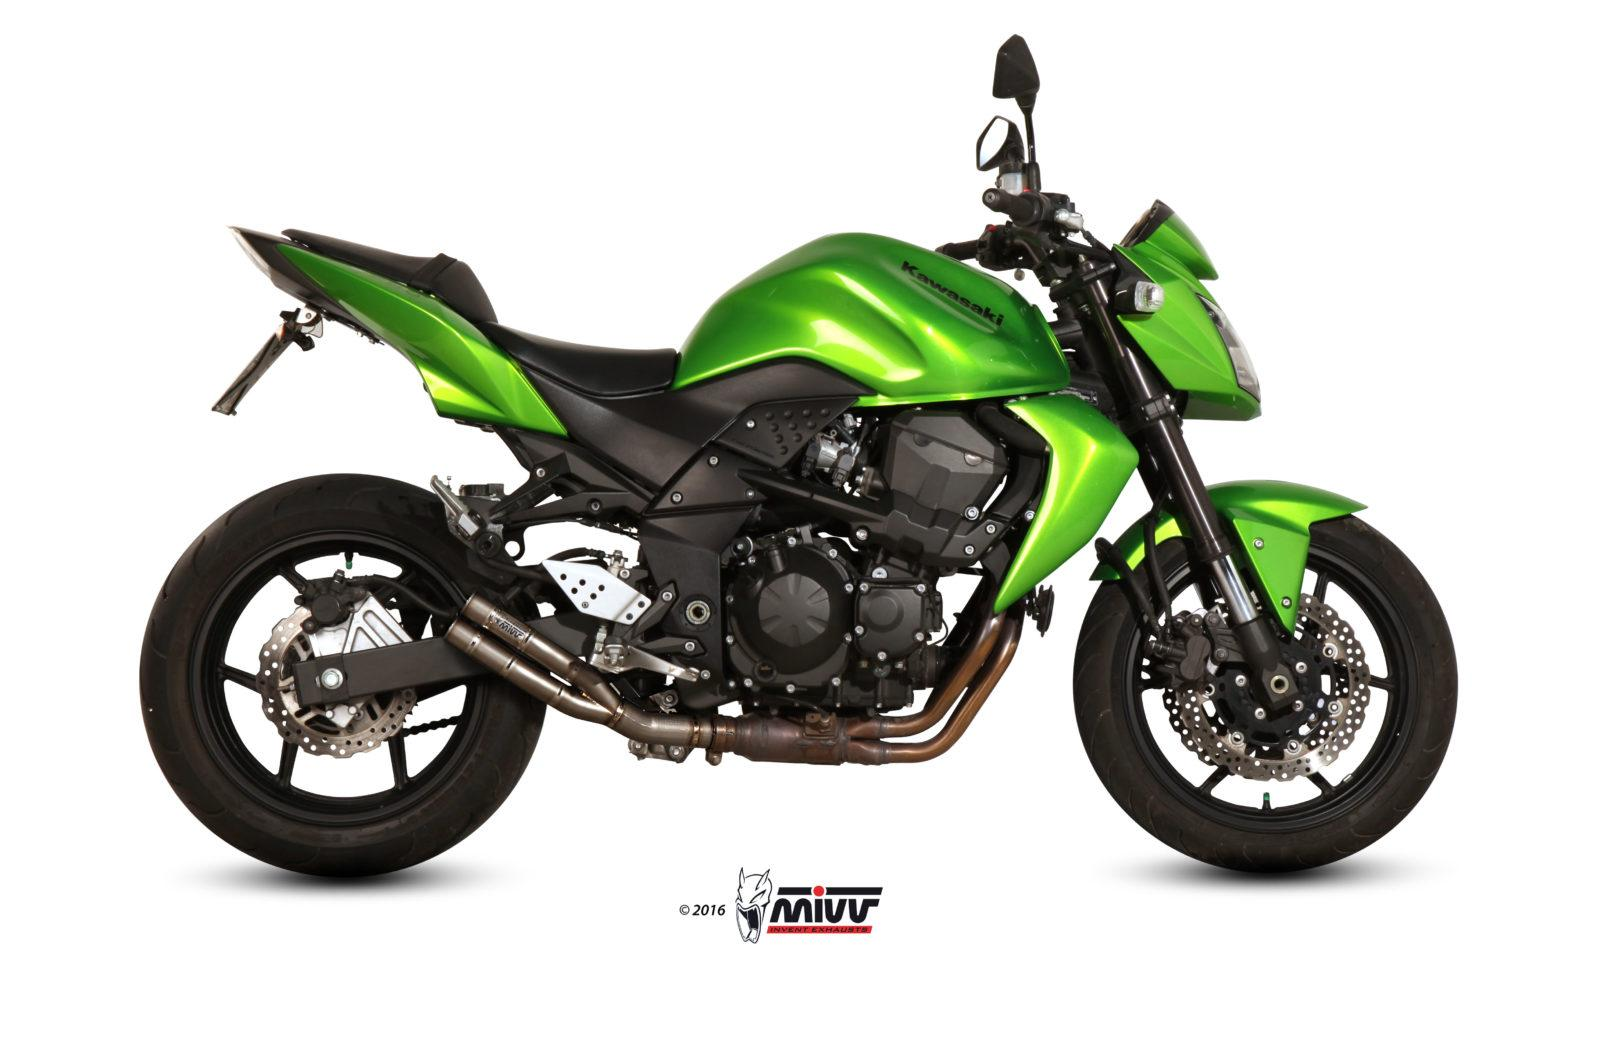engine-chasis: (542, 396, 1050, 717)
exhaust: (441, 565, 1026, 768)
frontside: (995, 243, 1367, 712)
handlebar: (934, 32, 1113, 287), (1118, 200, 1218, 280)
motorbike: (140, 34, 1459, 874)
rearside: (212, 226, 879, 659), (291, 636, 492, 707)
seat: (281, 228, 497, 323), (479, 322, 676, 394)
tank: (671, 232, 1073, 407)
watermark: (678, 867, 886, 944)
wheel: (138, 473, 546, 880), (1073, 513, 1459, 875), (1095, 536, 1164, 641), (348, 574, 459, 620), (1147, 480, 1173, 636), (403, 716, 461, 738)
